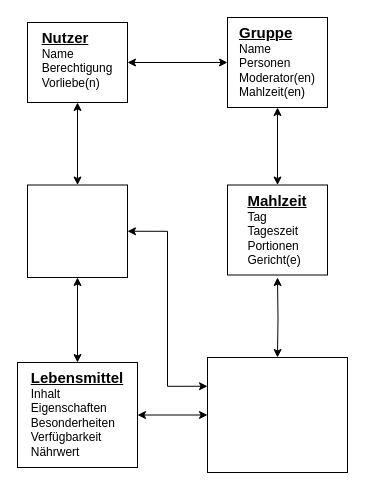
The diagram is 365 pixels wide and 490 high, and some of its shapes have lost their labels. Here are the shapes that lost their labels. From the top down, the centre of each, then its label:
At (x=77, y=231): "Vorschlag Autor Gericht oder Zutat(en) oder Vorliebe(n)".
At (x=277, y=414): "Gericht Name Schlagwörter Eigenschaften Lebensmittel/Zutat(en) Menge Zubereitung".
